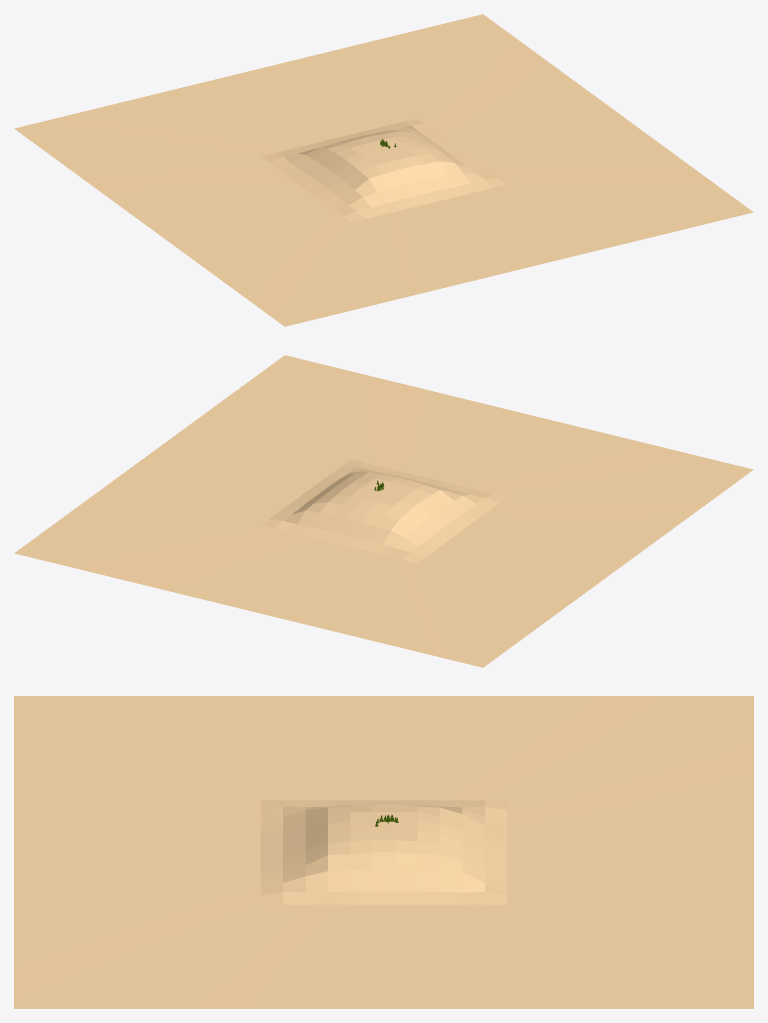
The model's file is Combined Mesh (root_ scene) 4_1.glb.
3 renders of one model, top to bottom at view 1: azimuth 30°, elevation 25°; view 2: azimuth 150°, elevation 25°; view 3: azimuth 270°, elevation 25°, orthographic. The views are drawn at different scales.
Visible parts, largest first — view 1: Combined Mesh (root_ scene) 4_1; view 2: Combined Mesh (root_ scene) 4_1; view 3: Combined Mesh (root_ scene) 4_1.
Part boxes in pixels (left/top/right/bottom): Combined Mesh (root_ scene) 4_1: left=14, top=14, right=753, bottom=326; Combined Mesh (root_ scene) 4_1: left=14, top=355, right=753, bottom=667; Combined Mesh (root_ scene) 4_1: left=14, top=696, right=753, bottom=1008.
Size of the model in its own units: 600 by 35.42 by 600.
Materials: 1 (1 with a texture image).
